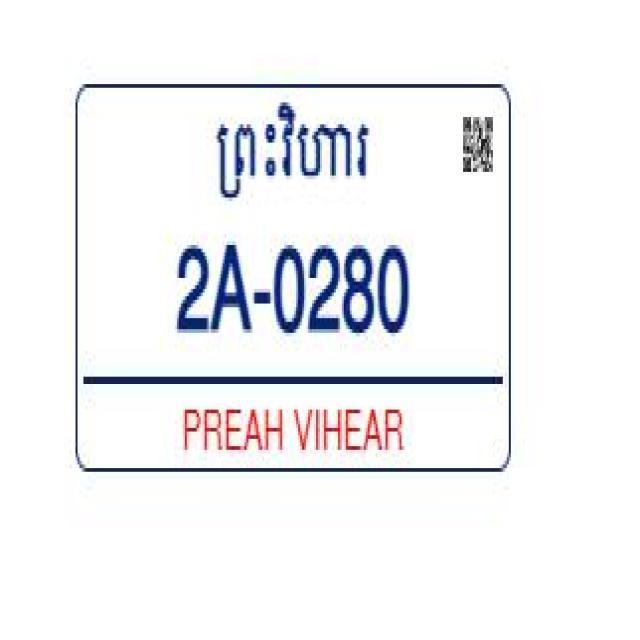Preah_Vihear: (215, 95, 370, 212)
